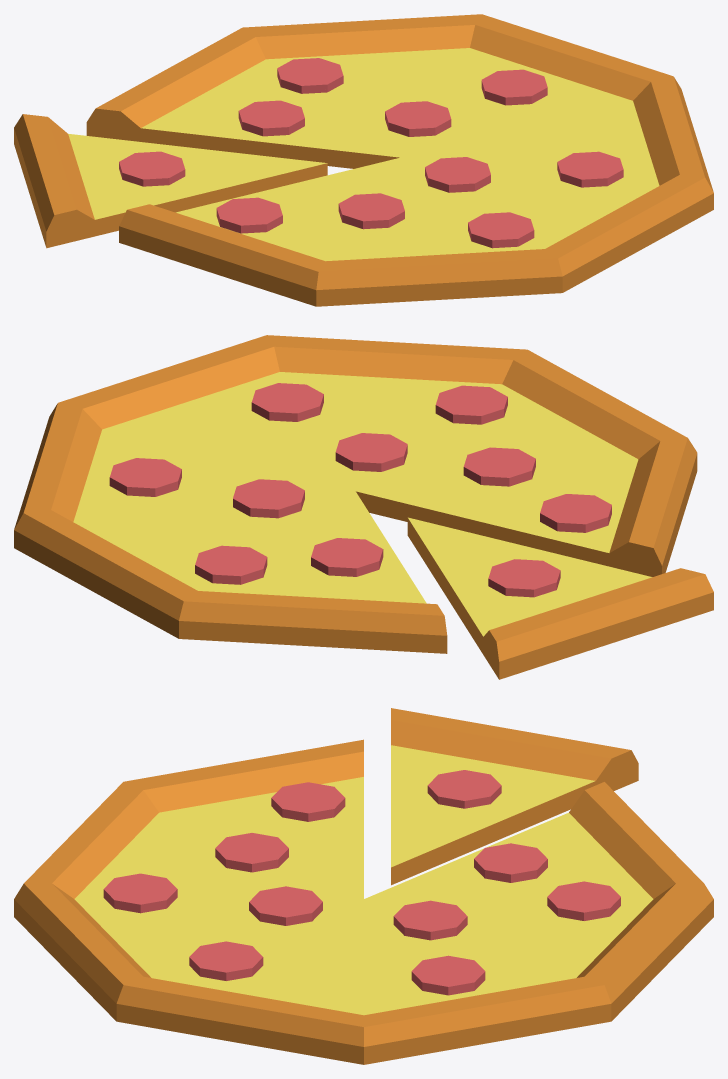
The model's file is OnlyPizza.fbx.
3 views of the same model, one above another, from view 1: azimuth 30°, elevation 25°; view 2: azimuth 150°, elevation 25°; view 3: azimuth 270°, elevation 25° (orthographic). The views are drawn at different scales.
Parts seen in each view (by area): view 1: Pizza.001; view 2: Pizza.001; view 3: Pizza.001.
Boxes of the visible parts, x1,y1,x2,y2 form: Pizza.001: (14, 14, 713, 306); Pizza.001: (14, 335, 713, 679); Pizza.001: (14, 708, 713, 1064).
Bounding box in the file's own units: 1143 × 54.75 × 1033.
